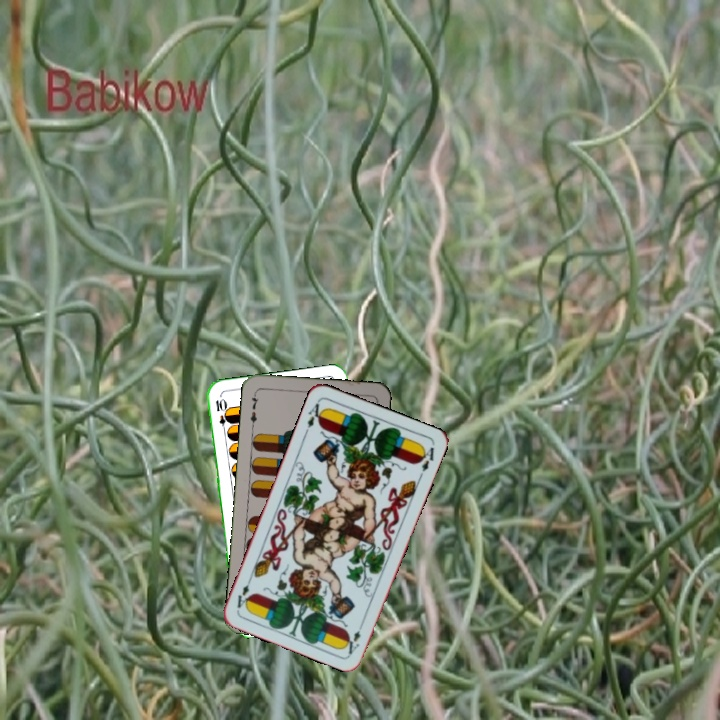E10: (212, 394, 232, 435)
E7: (246, 389, 261, 429)
EA: (342, 618, 367, 657), (303, 397, 327, 430)
